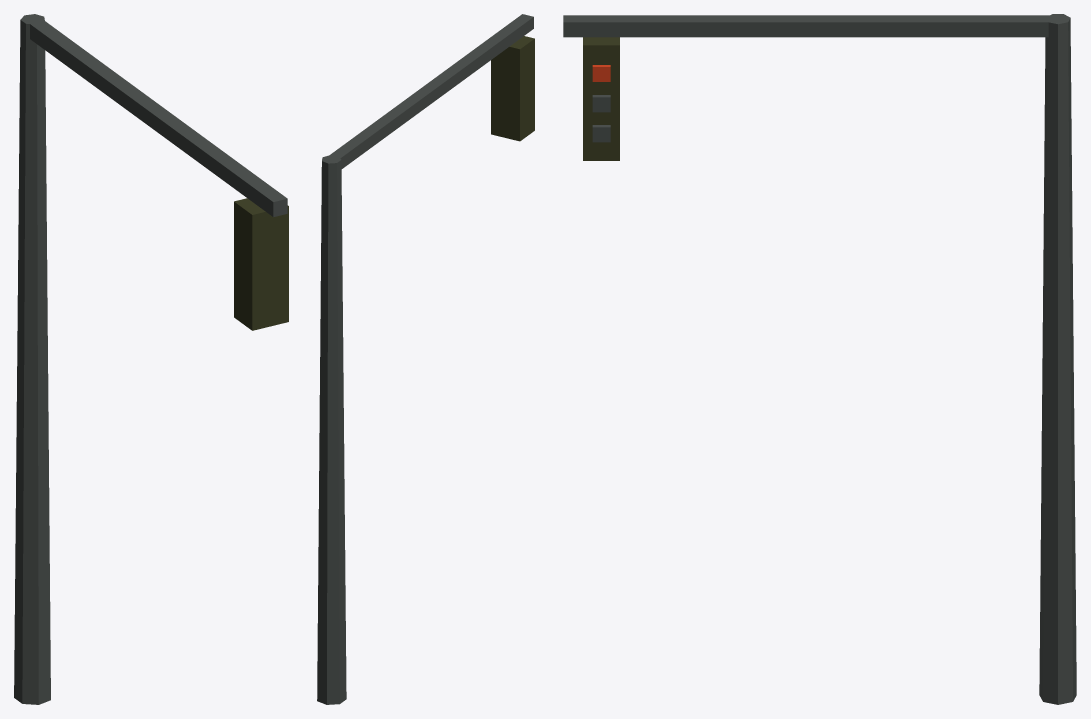
The model's file is traffic_signal.glb.
3 renders of one model, left to right at view 1: azimuth 30°, elevation 25°; view 2: azimuth 150°, elevation 25°; view 3: azimuth 270°, elevation 25°, orthographic. The views are drawn at different scales.
Parts seen in each view (by area): view 1: traffic_signal; view 2: traffic_signal; view 3: traffic_signal.
Boxes of the visible parts, x1=… form: traffic_signal: x1=14, y1=14, x2=288, y2=704; traffic_signal: x1=317, y1=14, x2=534, y2=704; traffic_signal: x1=563, y1=14, x2=1076, y2=704.
Size of the model in its own units: 0.37 by 5.85 by 4.02.
